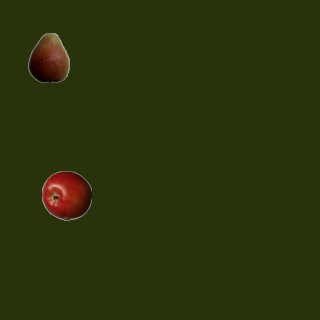Apple Braeburn: (41, 170, 91, 220)
Pear Forelle: (23, 32, 73, 82)
